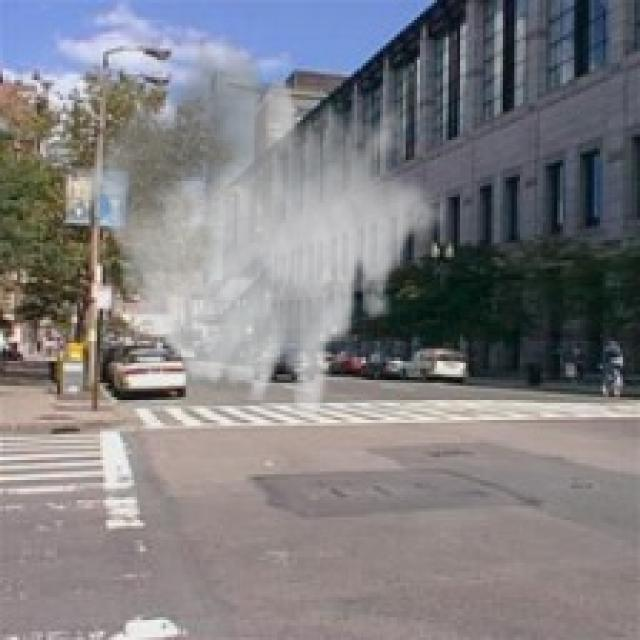smoke: (80, 34, 449, 432)
